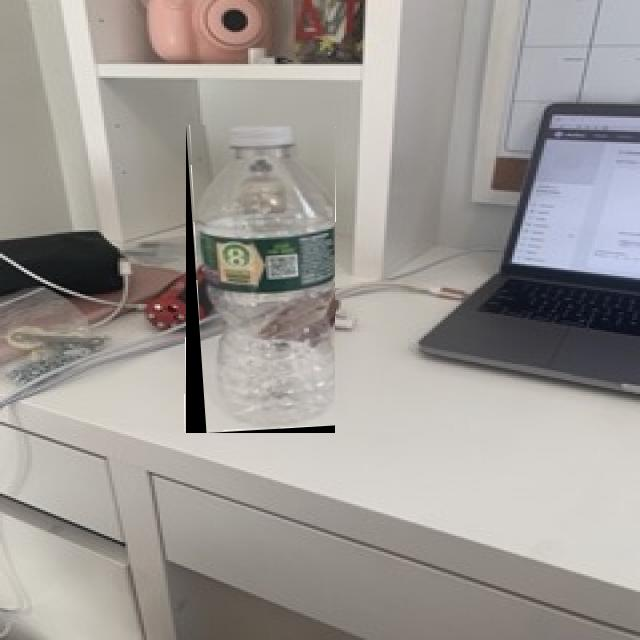water_bottle: (186, 125, 335, 433)
